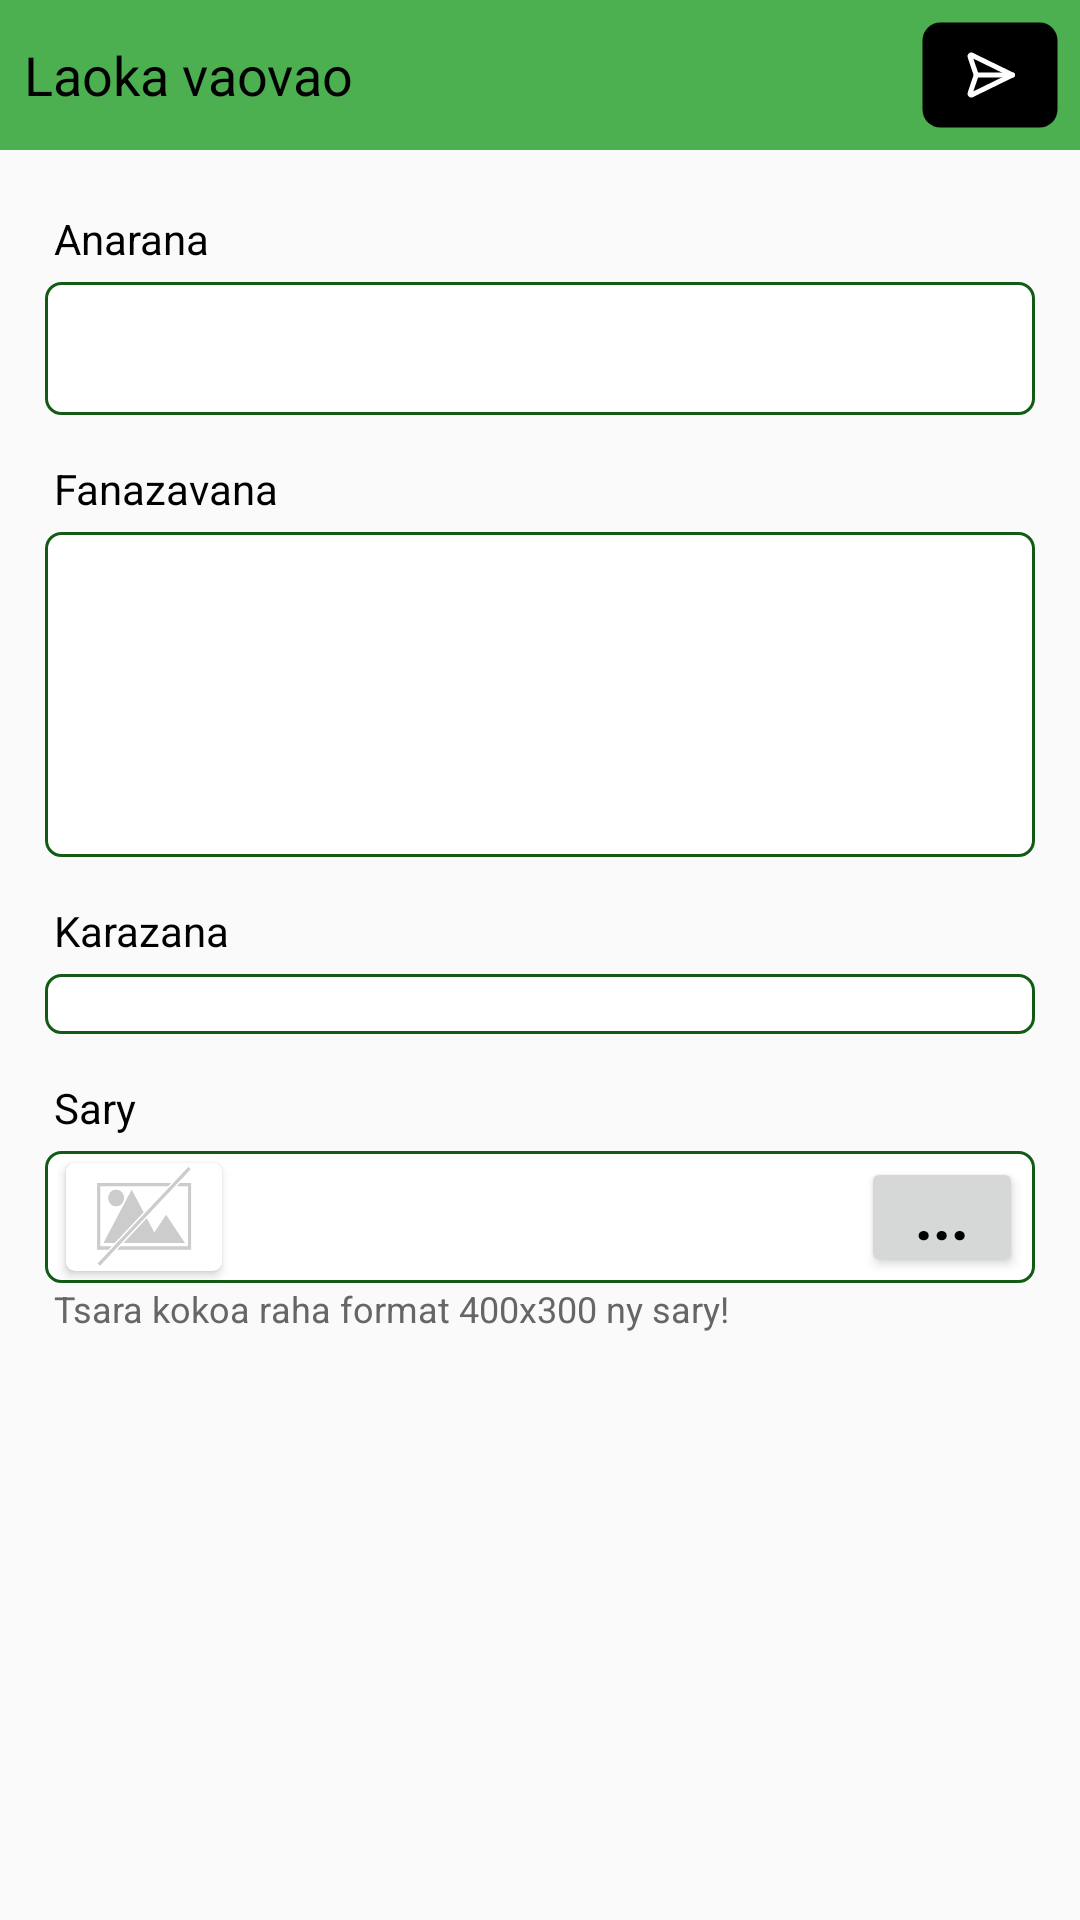

Icons on this 1080px x 1920px Android screen, each with the point to tap as point (x, y):
valide: point (990, 75)
